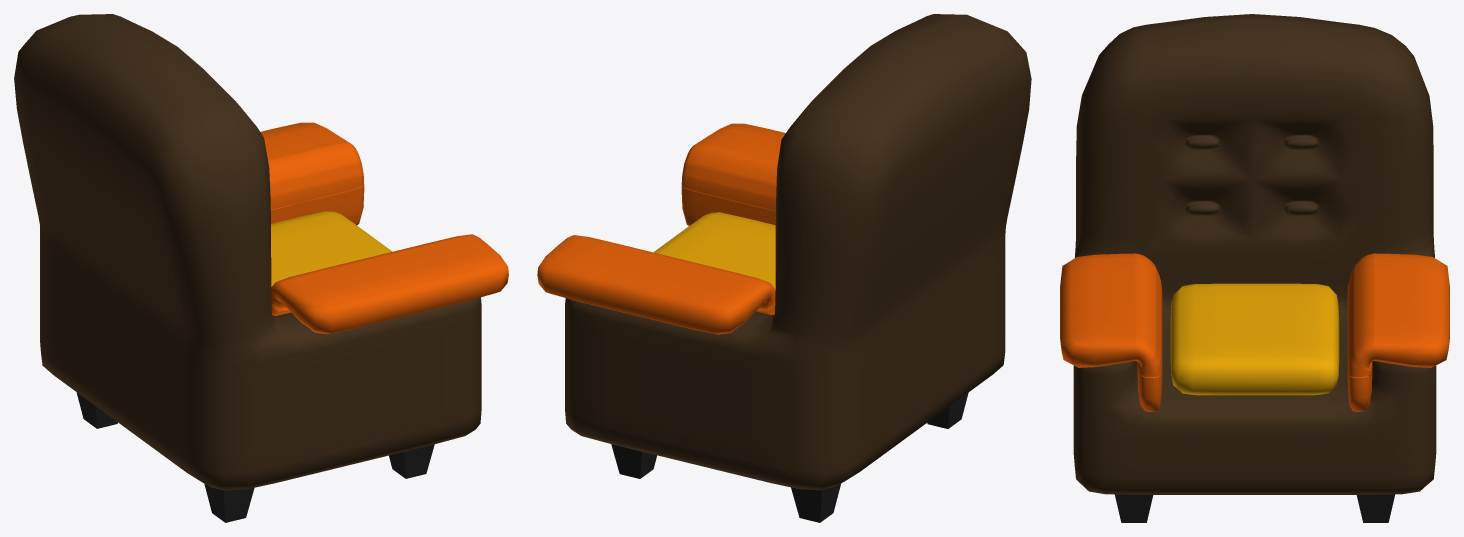
Rendered from kreslo.fbx.
3 views of the same model, side by side, from view 1: azimuth 30°, elevation 25°; view 2: azimuth 150°, elevation 25°; view 3: azimuth 270°, elevation 25° (orthographic). The views are drawn at different scales.
Parts seen in each view (by area): view 1: Cube, Куб.001, Куб, Куб.002; view 2: Cube, Куб.001, Куб, Куб.002; view 3: Cube, Куб.001, Куб, Куб.002.
Part boxes in pixels (x1,y1,x2,y2): Cube: (14, 14, 481, 490); Куб.001: (260, 122, 508, 334); Куб: (271, 211, 392, 286); Куб.002: (76, 392, 434, 522); Cube: (565, 14, 1031, 490); Куб.001: (537, 123, 785, 334); Куб: (653, 212, 775, 289); Куб.002: (611, 392, 968, 522); Cube: (1073, 14, 1436, 494); Куб.001: (1060, 253, 1449, 411); Куб: (1170, 283, 1339, 395); Куб.002: (1115, 494, 1395, 522).
Size of the model in its own units: 196 by 246 by 215.
